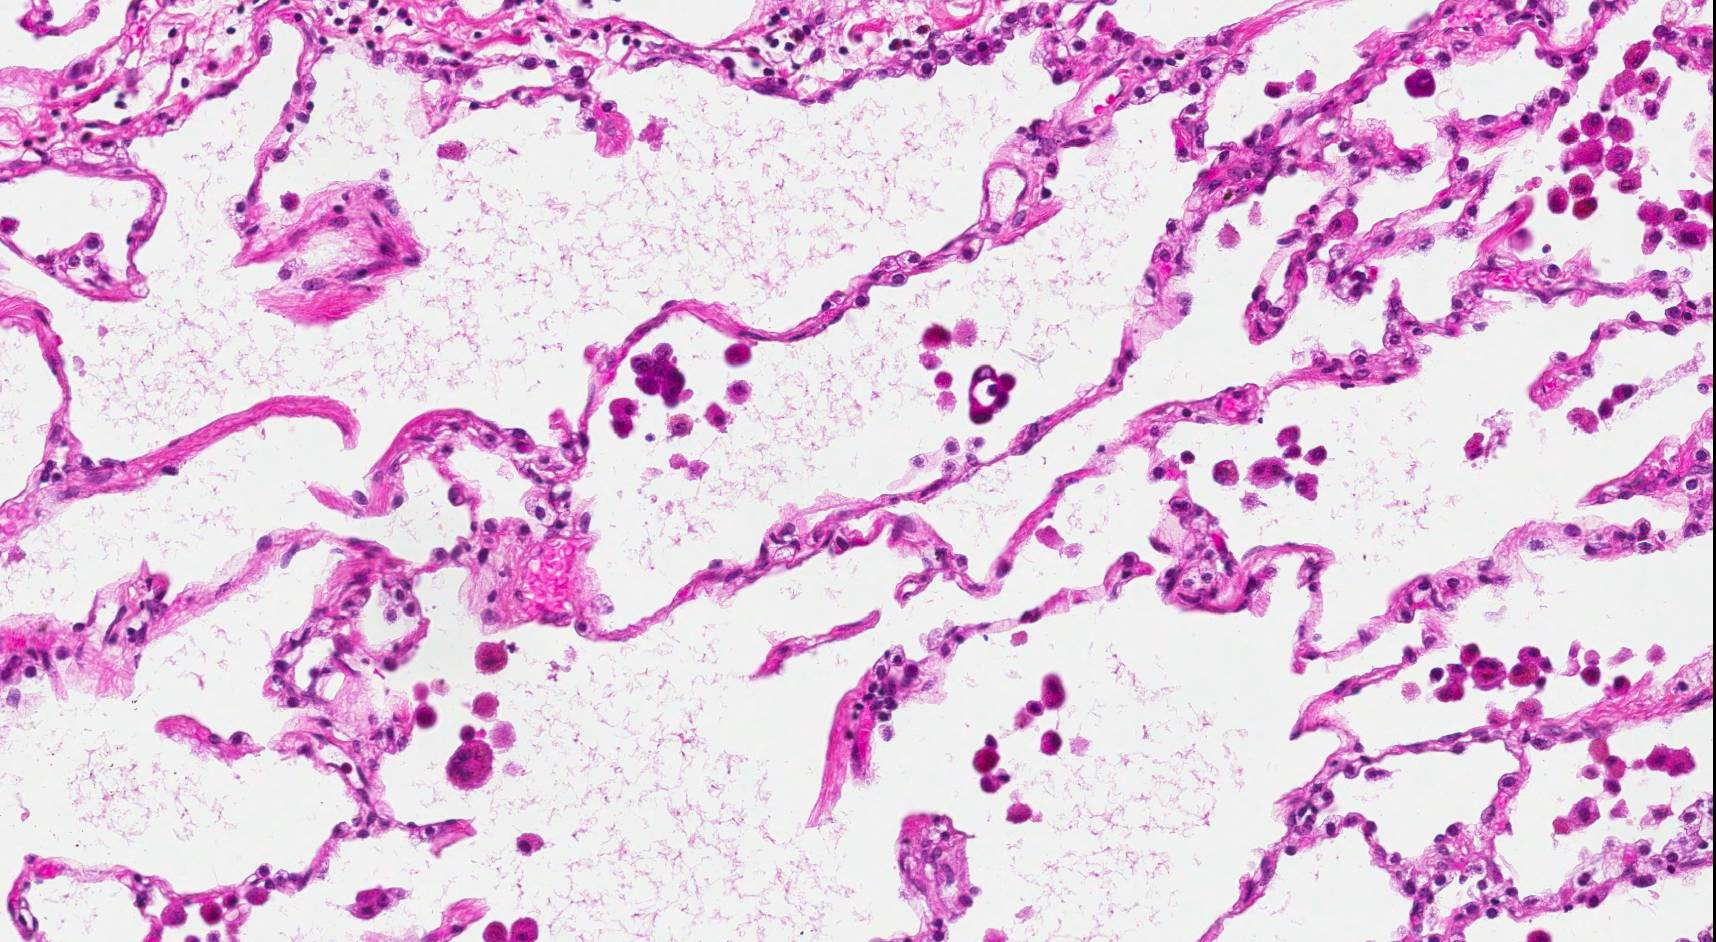stas: (629, 344, 695, 411), (961, 362, 1017, 429)
